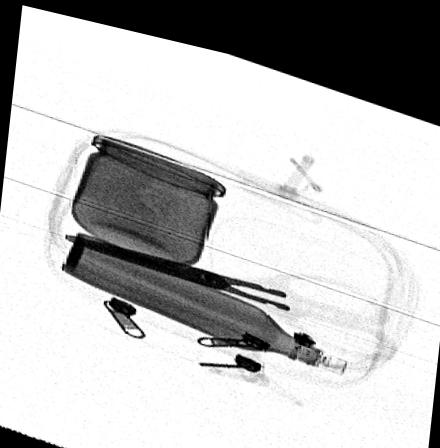Scissors: (56, 228, 397, 344)
